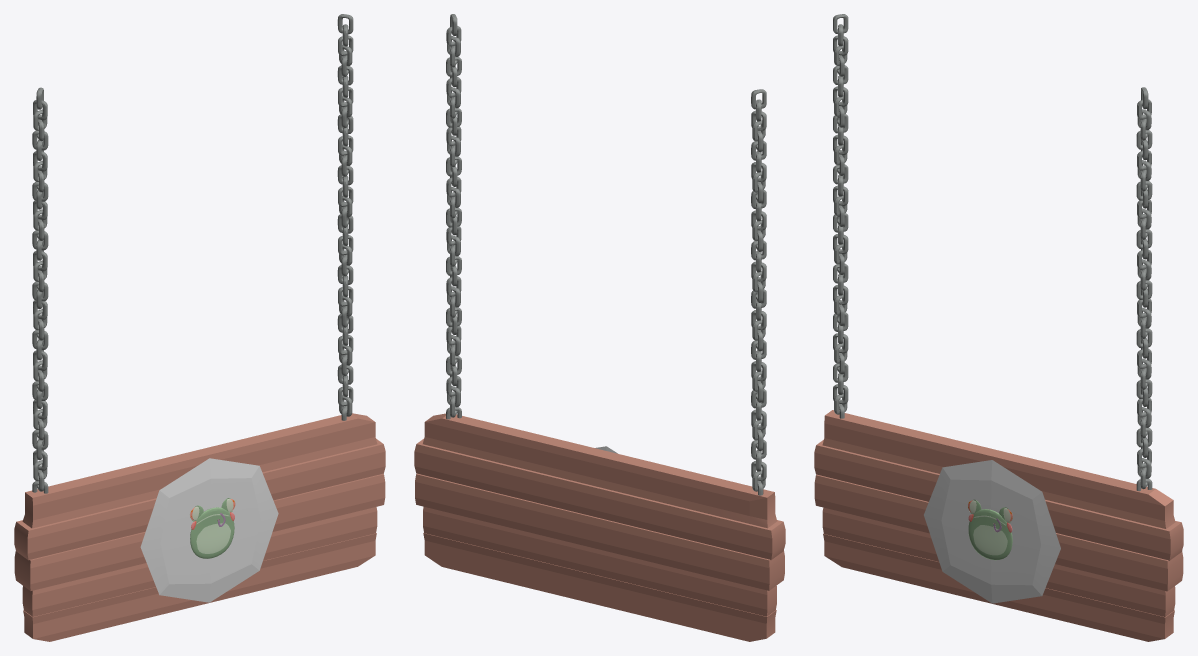
The model's file is PancarteGrenouille.fbx.
3 renders of one model, left to right at view 1: azimuth 30°, elevation 25°; view 2: azimuth 150°, elevation 25°; view 3: azimuth 330°, elevation 25°, orthographic.
Visible parts, largest first — view 1: Cube.017; view 2: Cube.017; view 3: Cube.017.
Boxes of the visible parts, x1,y1,x2,y2 form: Cube.017: [14, 14, 385, 641]; Cube.017: [414, 14, 785, 641]; Cube.017: [814, 14, 1183, 641].
Size of the model in its own units: 345 by 508 by 32.51.
